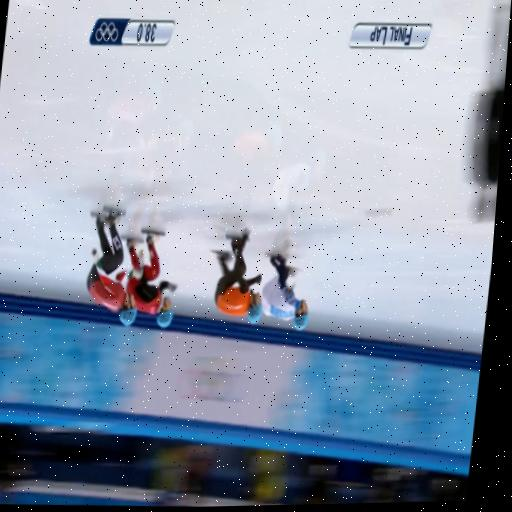Skater: (86, 208, 135, 325), (125, 229, 176, 327), (213, 229, 261, 322), (261, 254, 307, 329)
